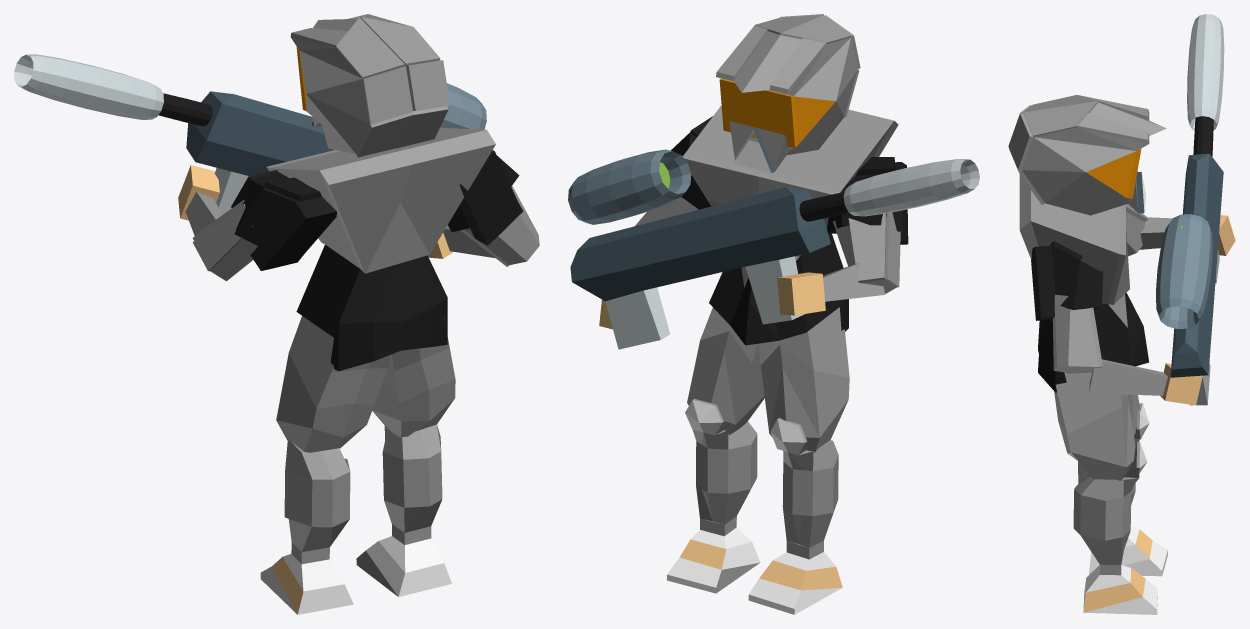
The model's file is scene_RMS8S1u9gW.glb.
3 views of the same model, side by side, from view 1: azimuth 30°, elevation 25°; view 2: azimuth 150°, elevation 25°; view 3: azimuth 270°, elevation 25° (orthographic). The views are drawn at different scales.
Visible parts, largest first — view 1: group725208766, group1683056005, group1904710776, group416954602, group1867911540, group1610235884, group499654916, group297557730, group1096216051, group1898450104, group18590013, group278848390 (+8 smaller); view 2: group1867911540, group1683056005, group725208766, group416954602, group2012152842, group1898450104, group297557730, group1096216051, group1904710776, group499654916, group278848390, group18590013 (+7 smaller); view 3: group1683056005, group725208766, group1096216051, group2012152842, group1867911540, group1898450104, group983883620, group1904710776, group499654916, group18590013, group230263672, group593187182 (+7 smaller).
Boxes of the visible parts, bbox=[...] form: group725208766: bbox=[266, 127, 495, 273]; group1683056005: bbox=[290, 14, 450, 157]; group1904710776: bbox=[296, 244, 447, 371]; group416954602: bbox=[276, 316, 390, 452]; group1867911540: bbox=[186, 91, 334, 214]; group1610235884: bbox=[231, 170, 336, 270]; group499654916: bbox=[14, 54, 163, 119]; group297557730: bbox=[284, 441, 350, 552]; group1096216051: bbox=[372, 316, 455, 437]; group1898450104: bbox=[382, 424, 442, 532]; group18590013: bbox=[356, 524, 451, 596]; group278848390: bbox=[260, 542, 353, 614]; group1867911540: bbox=[570, 187, 830, 349]; group1683056005: bbox=[716, 14, 860, 173]; group725208766: bbox=[682, 105, 898, 256]; group416954602: bbox=[759, 307, 849, 452]; group2012152842: bbox=[568, 149, 691, 224]; group1898450104: bbox=[685, 398, 757, 524]; group297557730: bbox=[770, 418, 838, 547]; group1096216051: bbox=[687, 307, 764, 434]; group1904710776: bbox=[709, 233, 848, 345]; group499654916: bbox=[843, 159, 979, 216]; group278848390: bbox=[748, 540, 842, 614]; group18590013: bbox=[667, 516, 760, 593]; group1683056005: bbox=[1008, 95, 1166, 215]; group725208766: bbox=[1019, 174, 1129, 304]; group1096216051: bbox=[1051, 365, 1135, 480]; group2012152842: bbox=[1156, 214, 1212, 328]; group1867911540: bbox=[1170, 153, 1223, 405]; group1898450104: bbox=[1073, 442, 1147, 564]; group983883620: bbox=[1031, 241, 1103, 320]; group1904710776: bbox=[1038, 293, 1148, 392]; group499654916: bbox=[1187, 14, 1224, 130]; group18590013: bbox=[1083, 564, 1157, 614]; group230263672: bbox=[1052, 294, 1102, 373]; group593187182: bbox=[1089, 359, 1167, 395].
Size of the model in its own units: 2.19 by 2.73 by 1.17.
